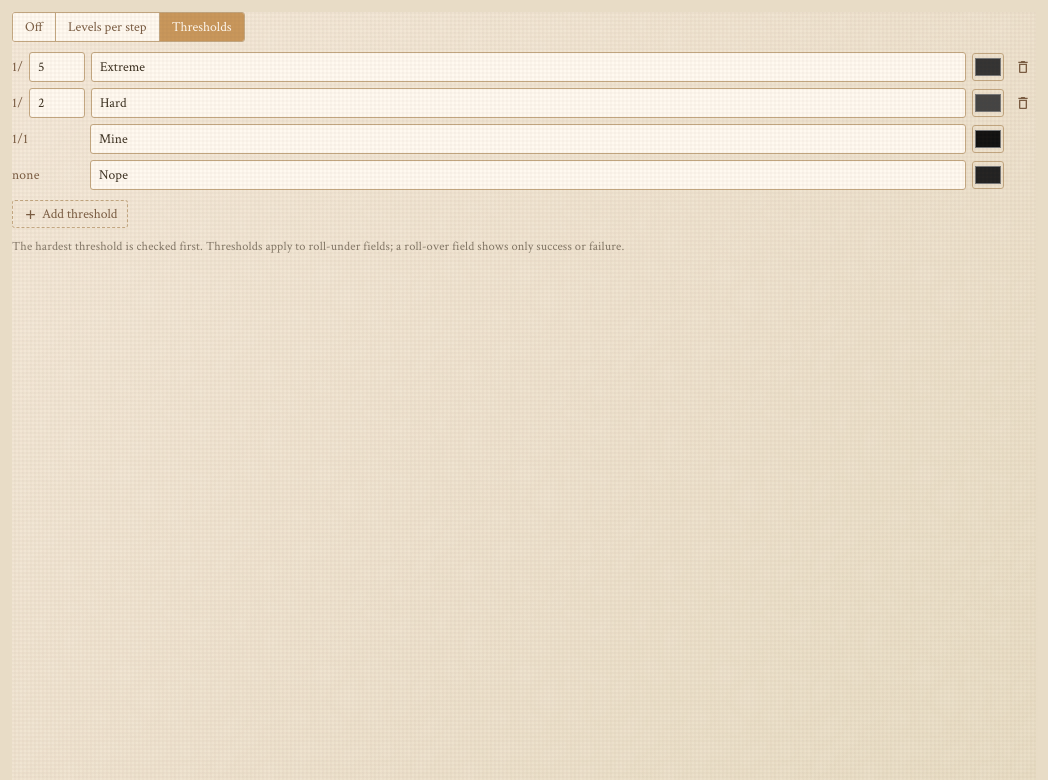
Test: SuccessLevelsBuilder › holds a duplicate divisor as a flagged draft instead of saving it
The image size is (1048, 780).
Replace the text in the number field with test id "slb-divisor-b" with "5". click: x=57, y=103
box: 29,88 -> 85,118
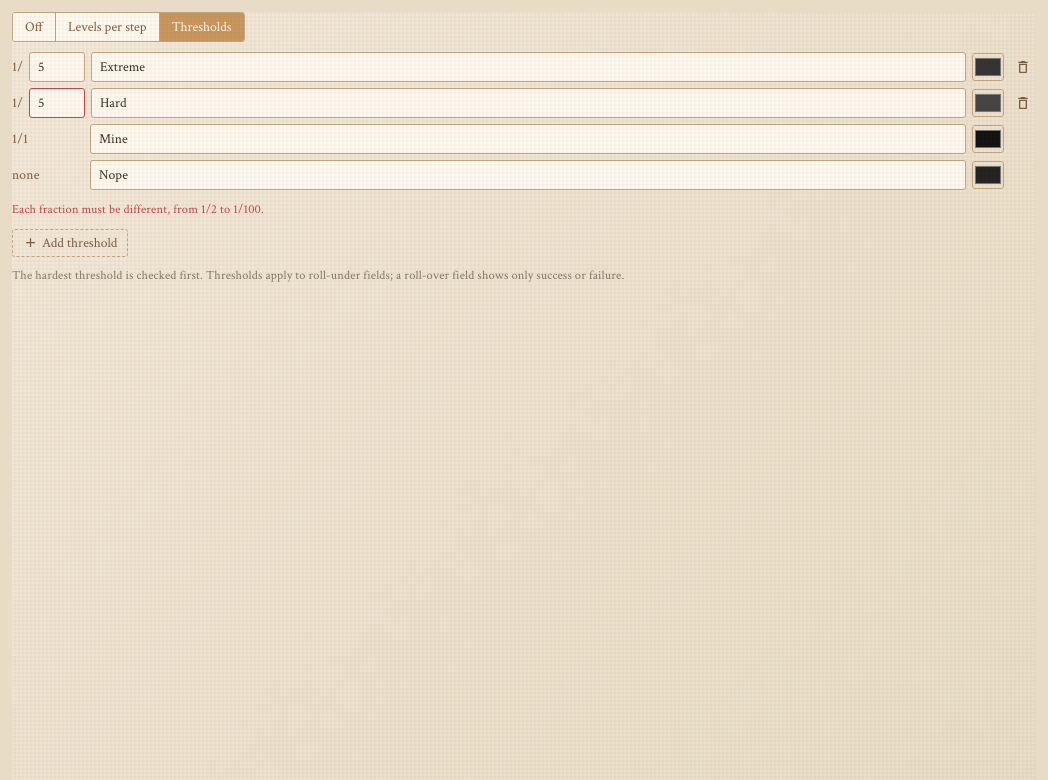
Now the text "Each fraction must be different, from 1/2 to 1/100." is shown, box 12,201 -> 264,217
